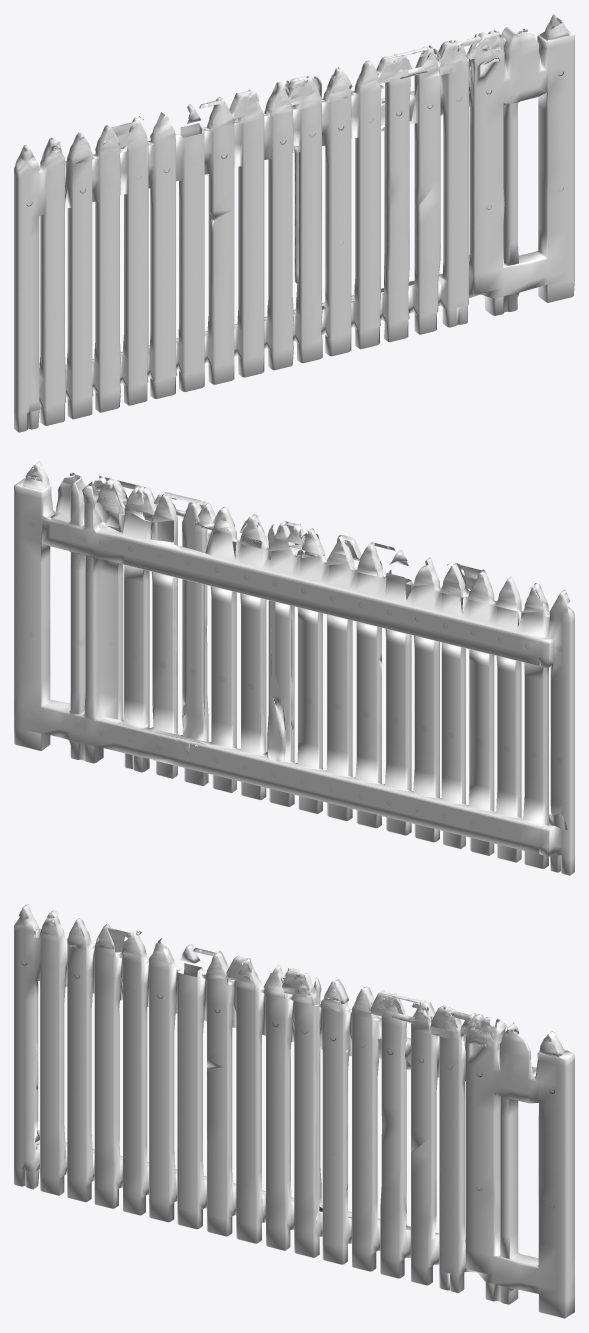
The model's file is Meshy_AI_Stylized_low_poly_woo_0426211126_texture.fbx.
3 views of the same model, one above another, from view 1: azimuth 30°, elevation 25°; view 2: azimuth 150°, elevation 25°; view 3: azimuth 330°, elevation 25° (orthographic).
Parts seen in each view (by area): view 1: Mesh_0; view 2: Mesh_0; view 3: Mesh_0.
Boxes of the visible parts, x1,y1,x2,y2 form: Mesh_0: [14, 14, 574, 432]; Mesh_0: [14, 461, 574, 875]; Mesh_0: [14, 904, 574, 1318].
Bounding box in the file's own units: 191 × 92.76 × 7.83.
Materials: 1 (1 with a texture image).
